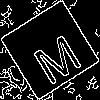M: (25, 25, 85, 87)
